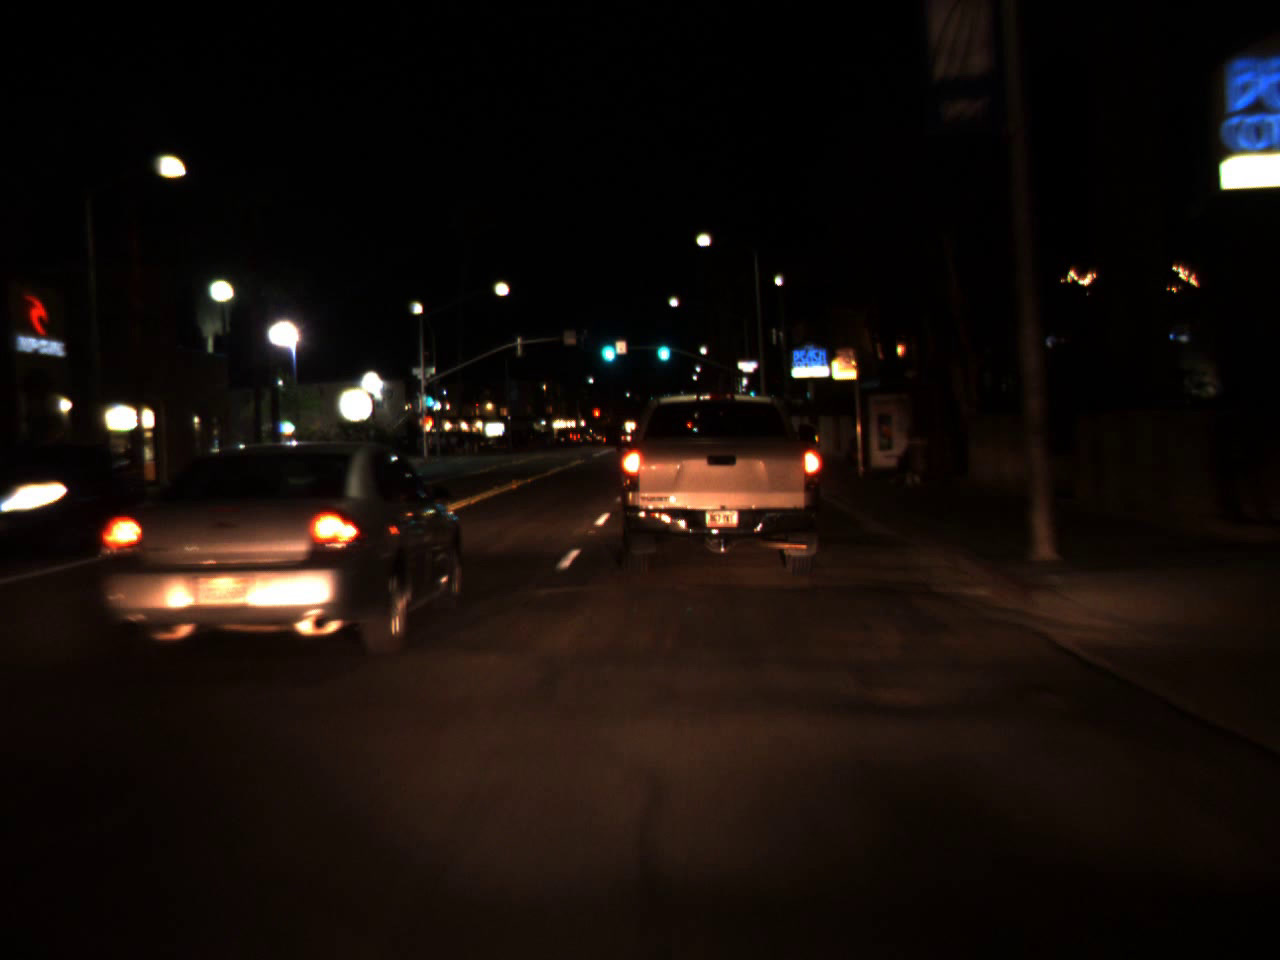go: (595, 326, 618, 368), (652, 327, 671, 366)
